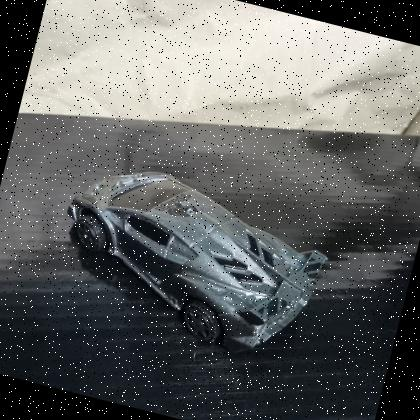Car: (35, 143, 344, 377)
